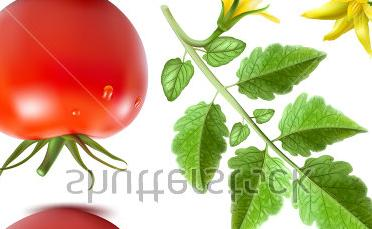Tomato leaf: (209, 133, 306, 229), (167, 87, 234, 201), (260, 95, 372, 156), (237, 39, 344, 102), (292, 161, 372, 229)
